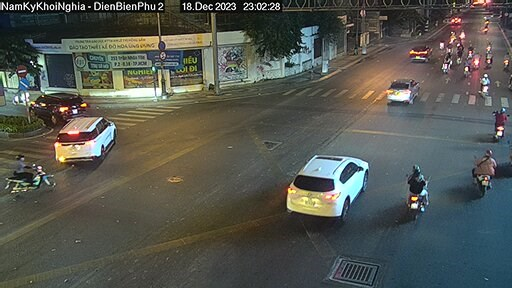car: (288, 152, 367, 218), (58, 118, 113, 165), (25, 89, 86, 126), (387, 73, 421, 105), (406, 34, 431, 66)
motorbike: (6, 157, 55, 194), (400, 174, 432, 221), (467, 151, 495, 194), (492, 110, 509, 144), (478, 71, 492, 96)
